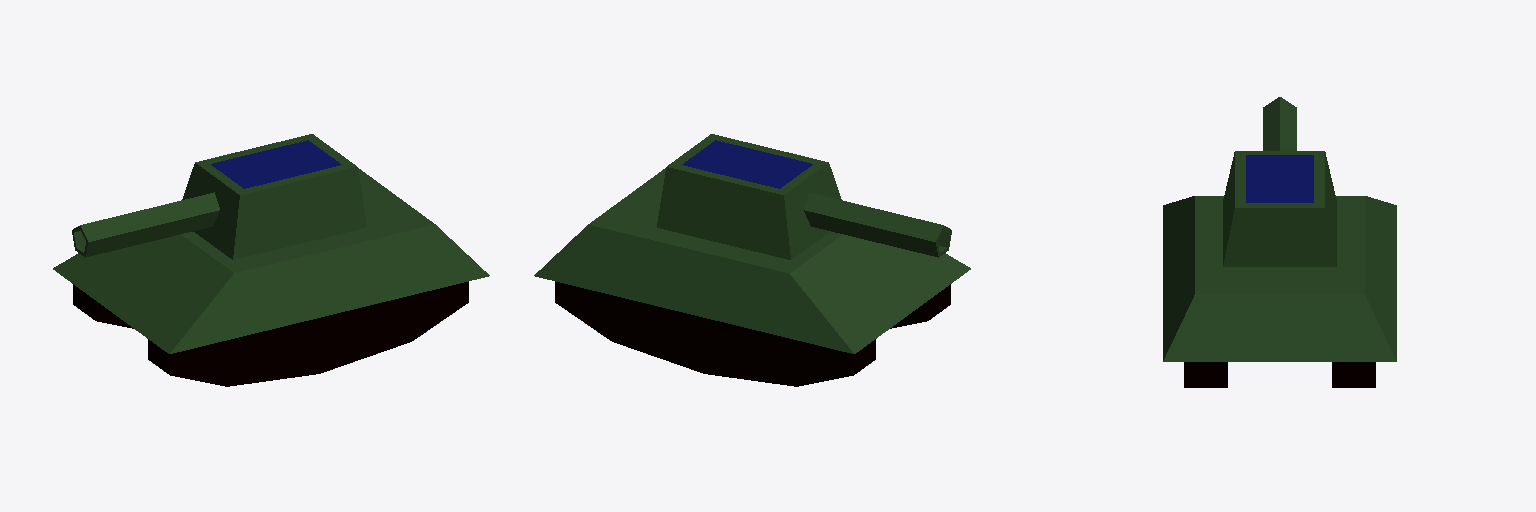
File: tank.obj
The picture shows the model from 3 angles: view 1: azimuth 30°, elevation 25°; view 2: azimuth 150°, elevation 25°; view 3: azimuth 270°, elevation 25°; orthographic projection.
Visible parts, largest first — view 1: Body_Untitled.004; view 2: Body_Untitled.004; view 3: Body_Untitled.004.
Part boxes in pixels (left/top/right/bottom): Body_Untitled.004: left=53, top=134, right=489, bottom=386; Body_Untitled.004: left=534, top=134, right=970, bottom=386; Body_Untitled.004: left=1163, top=97, right=1396, bottom=387.
Size of the model in its own units: 2.19 by 1.03 by 1.26.